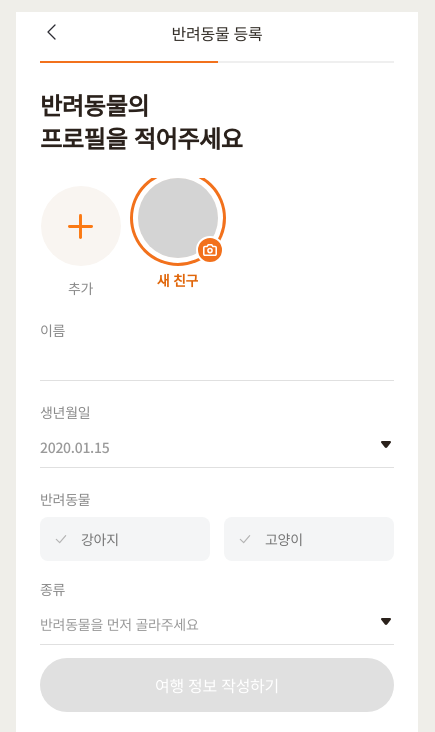
Test case: M02 반려동물 등록 › 이름을 지울 수 있다
Type "설이" into the field labelled "이름" at (217, 360), box [40,340,394,380]
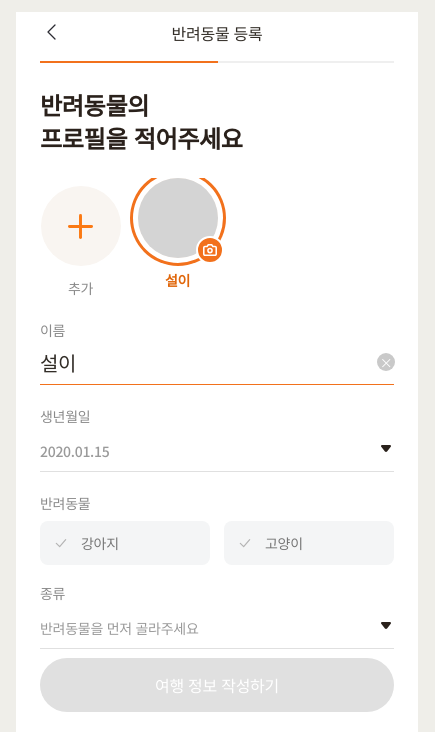
Click the button named "이름 지우기" at (386, 362), box [364,340,408,384]
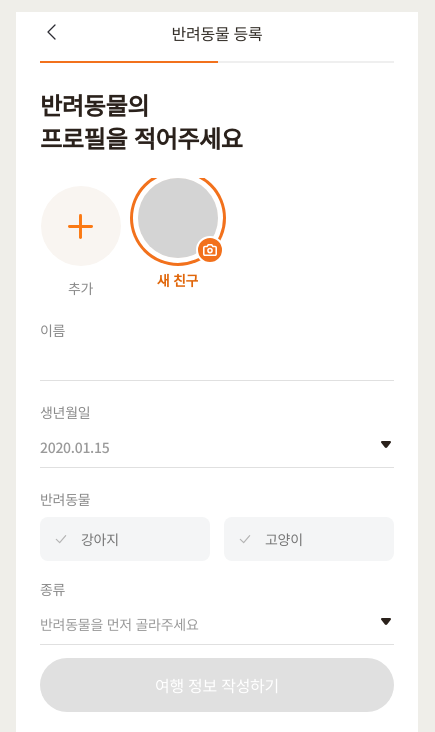
Expected: the field labelled "이름" is empty, [40,340,394,380]
